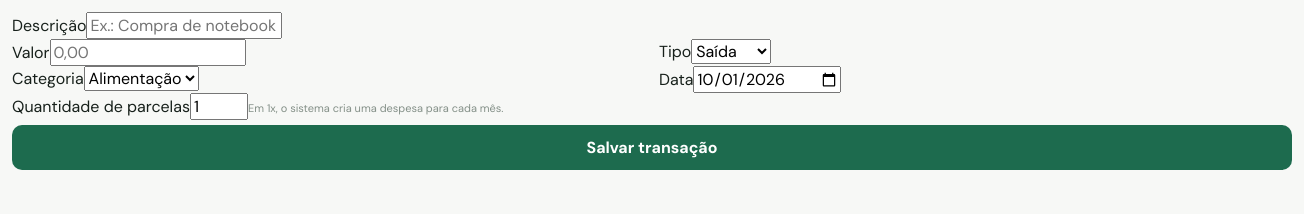
Test case: TransactionForm — nova transação › mostra erro e não envia quando a descrição está vazia
Type "50" into the number field labelled "Valor". click: (148, 52)
box: [50,39,246,66]
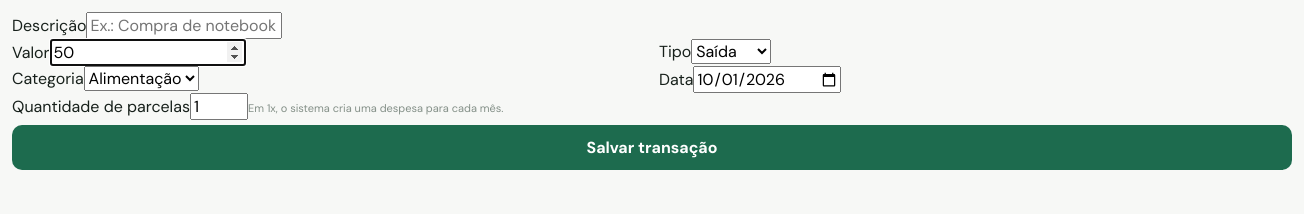
Click the button "Salvar transação". click: (652, 148)
box: [12,125,1292,170]
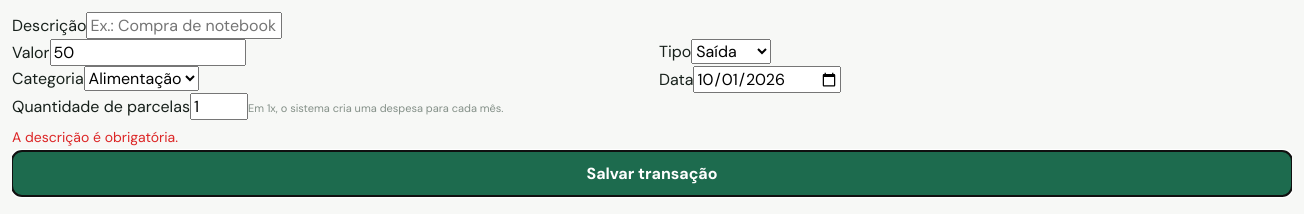
Check: the message reads "A descrição é obrigatória.", box [12,128,178,146]
